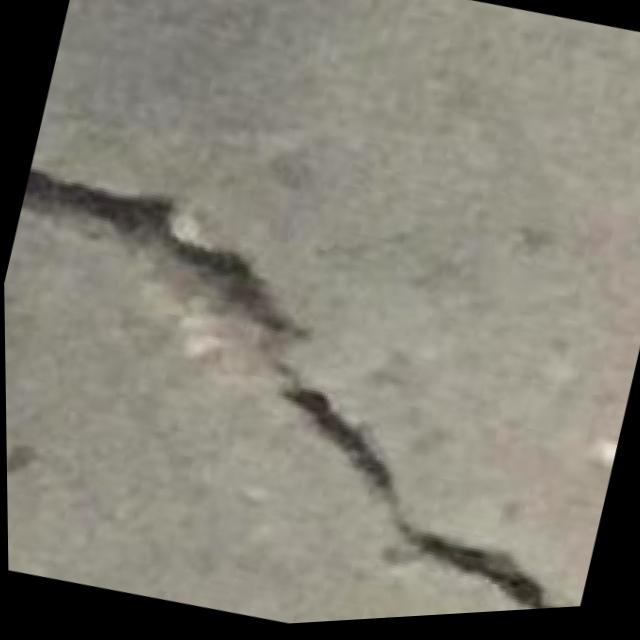Crack: (2, 126, 640, 640)
